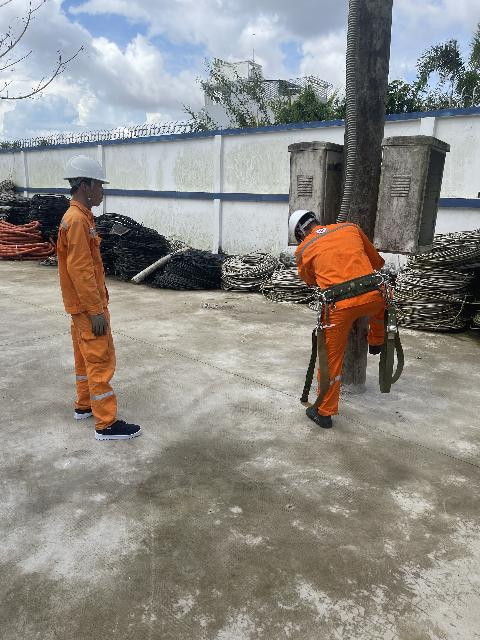gloves: (84, 312, 113, 339)
harness: (294, 270, 406, 305)
helmet: (49, 148, 116, 190), (277, 206, 327, 246)
shoes: (93, 415, 154, 446), (297, 405, 343, 431), (368, 334, 400, 360), (70, 399, 99, 420)
